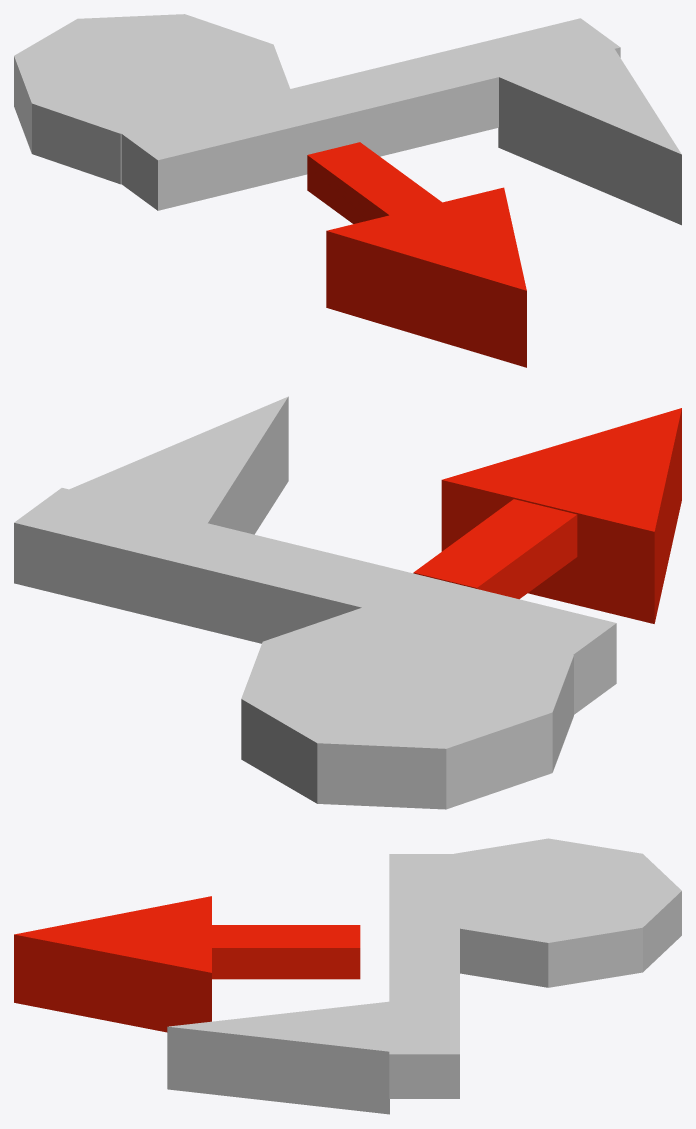
File: music_panel_send.glb
The picture shows the model from 3 angles, top to bottom: view 1: azimuth 30°, elevation 25°; view 2: azimuth 150°, elevation 25°; view 3: azimuth 270°, elevation 25°; orthographic projection. The views are drawn at different scales.
Visible parts, largest first — view 1: roof (×2), block (×2), cylinderVertex; view 2: cylinderVertex, block (×2), roof (×2); view 3: roof (×2), cylinderVertex, block (×2).
Boxes of the visible parts, left/top/right/bottom form: roof (×2): left=326, top=49, right=681, bottom=367; block (×2): left=121, top=18, right=620, bottom=223; cylinderVertex: left=14, top=14, right=291, bottom=184; cylinderVertex: left=241, top=605, right=573, bottom=809; block (×2): left=14, top=488, right=616, bottom=714; roof (×2): left=69, top=396, right=681, bottom=623; roof (×2): left=14, top=896, right=389, bottom=1114; cylinderVertex: left=415, top=838, right=681, bottom=987; block (×2): left=212, top=854, right=459, bottom=1098.
Bounding box in the file's own units: 2.06 × 0.3596 × 2.7.
